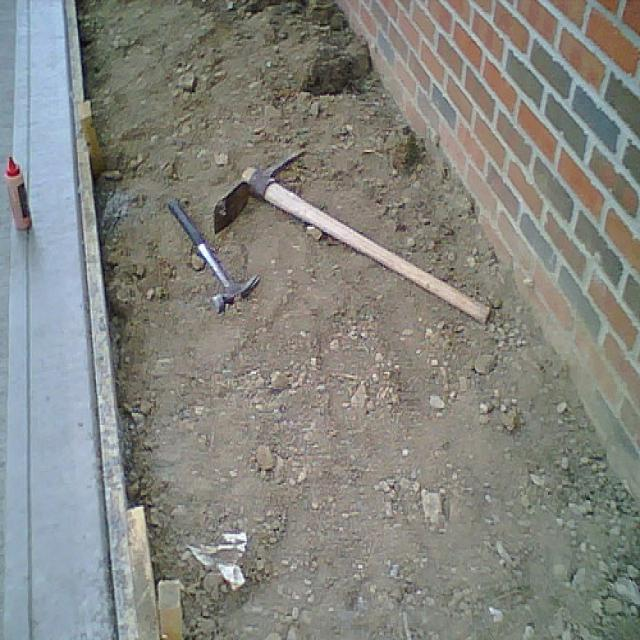hammer: (160, 181, 258, 333)
